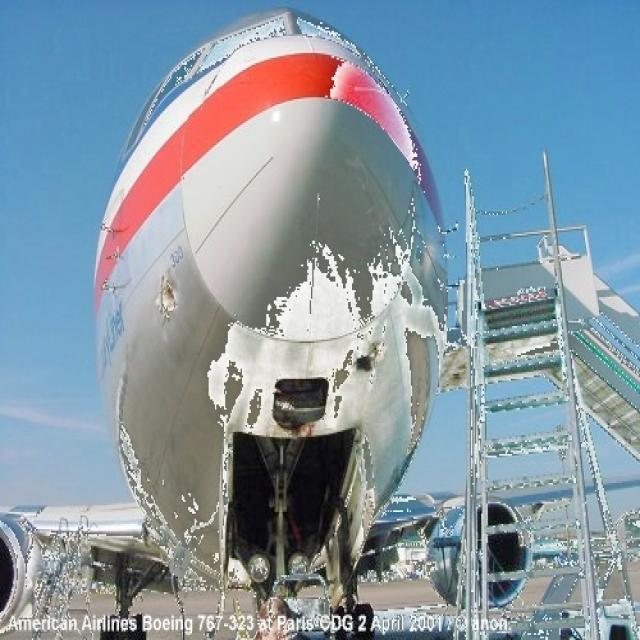dent: (161, 278, 188, 326)
